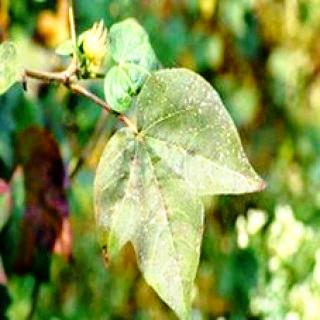grey mildew: (88, 66, 266, 294)
